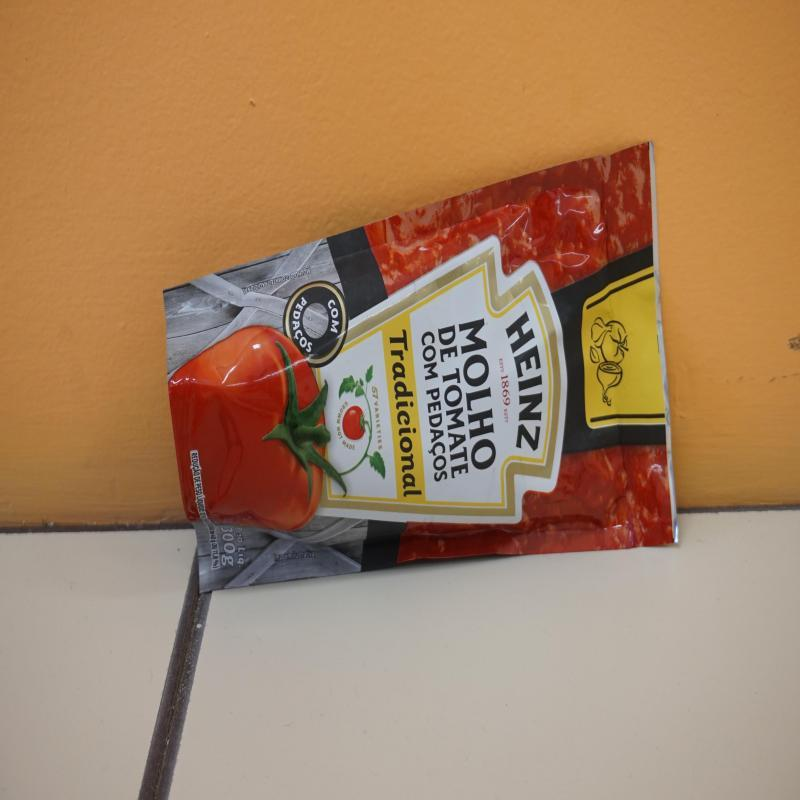TomatoSauce: (163, 144, 680, 594)
